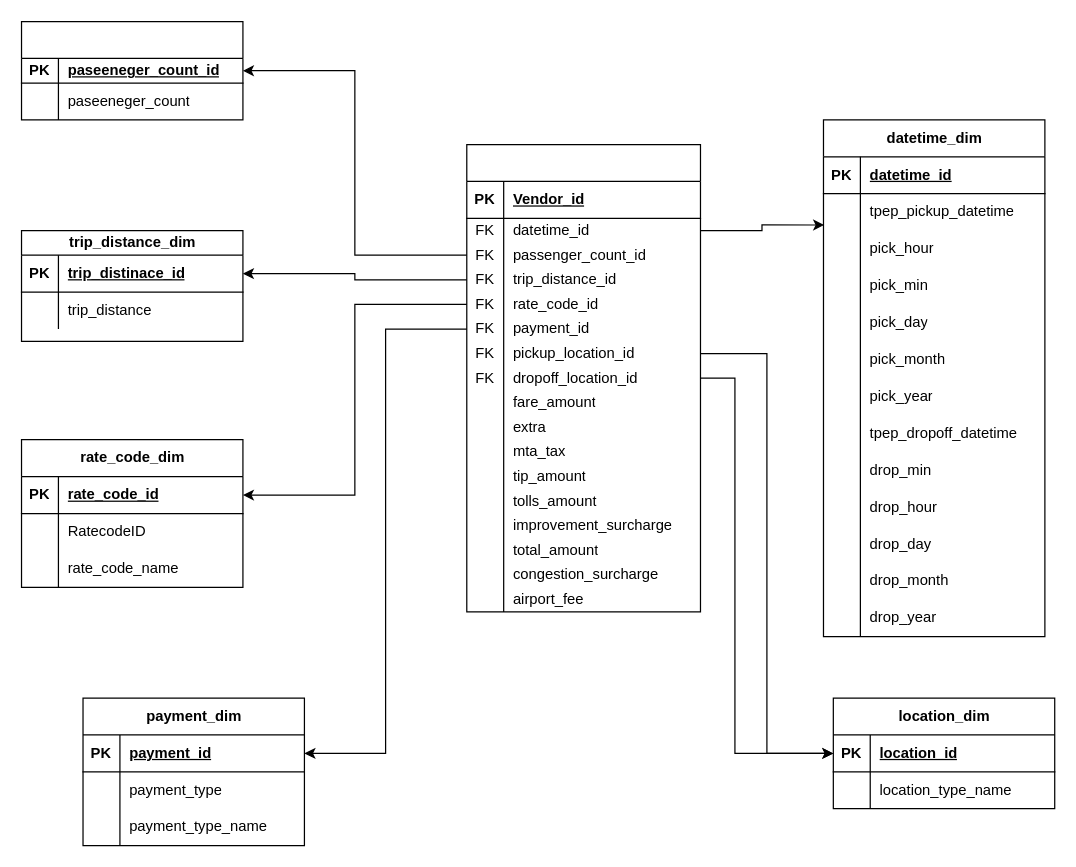
This 1076x867 diagram has some shape labels left out. The box of each missing label's shape, as (x1, y1, x2, y2) in pixels:
fact_table: (466, 143, 700, 612)
passenger_count_dim: (20, 20, 243, 120)
